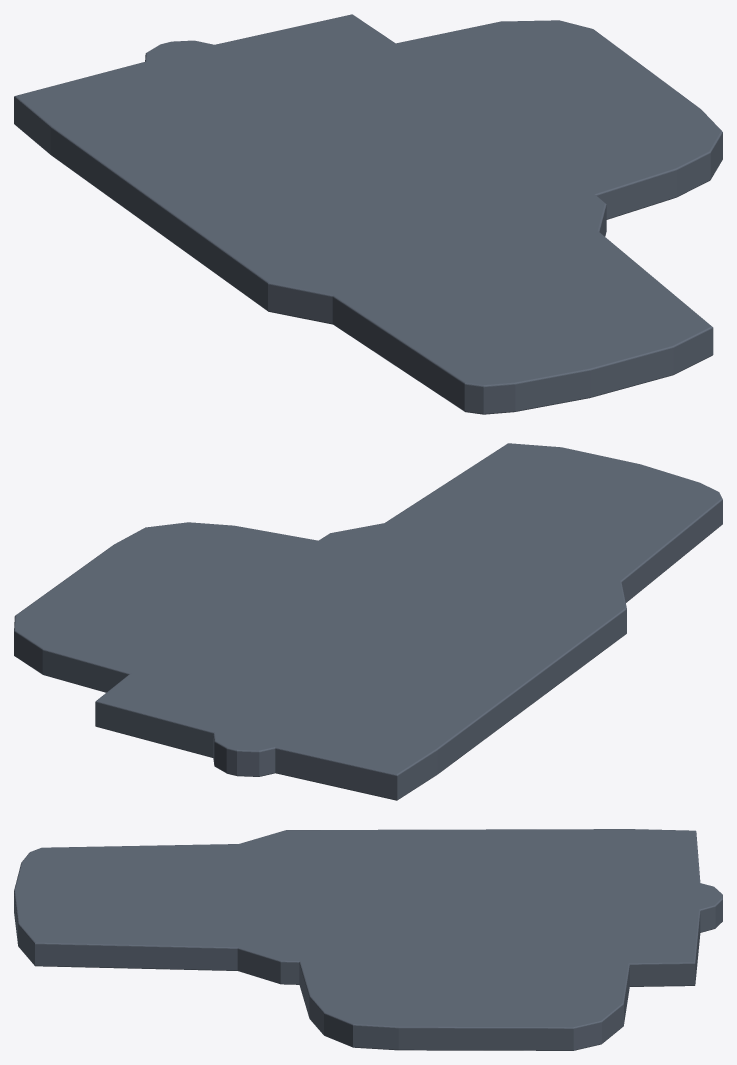
Rendered from the-quencher-protour-flip-straw-tumbler-40-oz-trace-67f2fa95d5.glb.
3 renders of one model, top to bottom at view 1: azimuth 30°, elevation 25°; view 2: azimuth 150°, elevation 25°; view 3: azimuth 270°, elevation 25°, orthographic. The views are drawn at different scales.
Parts seen in each view (by area): view 1: flat_item_body; view 2: flat_item_body; view 3: flat_item_body.
Part boxes in pixels (x1,y1,x2,y2): flat_item_body: [14, 14, 722, 414]; flat_item_body: [14, 443, 722, 800]; flat_item_body: [14, 829, 722, 1050].
Size of the model in its own units: 79.63 by 4.4 by 120.
